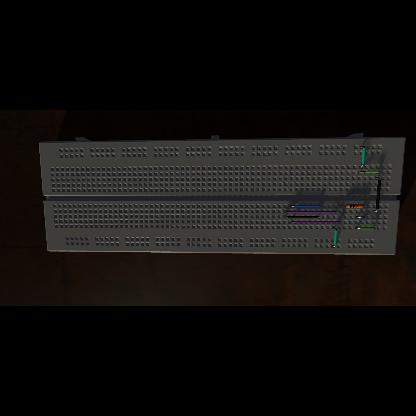breadboard: (38, 134, 406, 254)
resistor: (346, 204, 364, 208)
wire: (374, 178, 380, 212), (359, 146, 365, 168), (332, 228, 338, 246), (284, 211, 336, 213), (290, 221, 342, 223), (284, 216, 320, 218), (290, 205, 320, 207), (360, 171, 380, 173), (355, 227, 375, 229), (356, 216, 366, 218), (340, 206, 346, 206)
